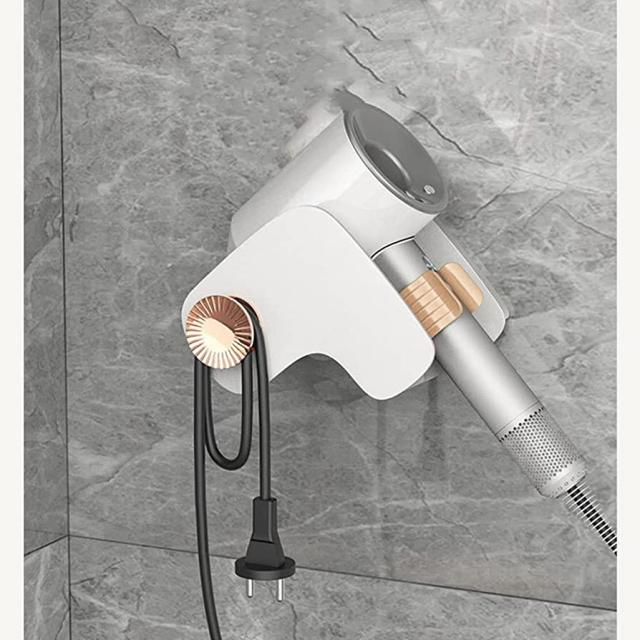dryer: (155, 80, 608, 590)
